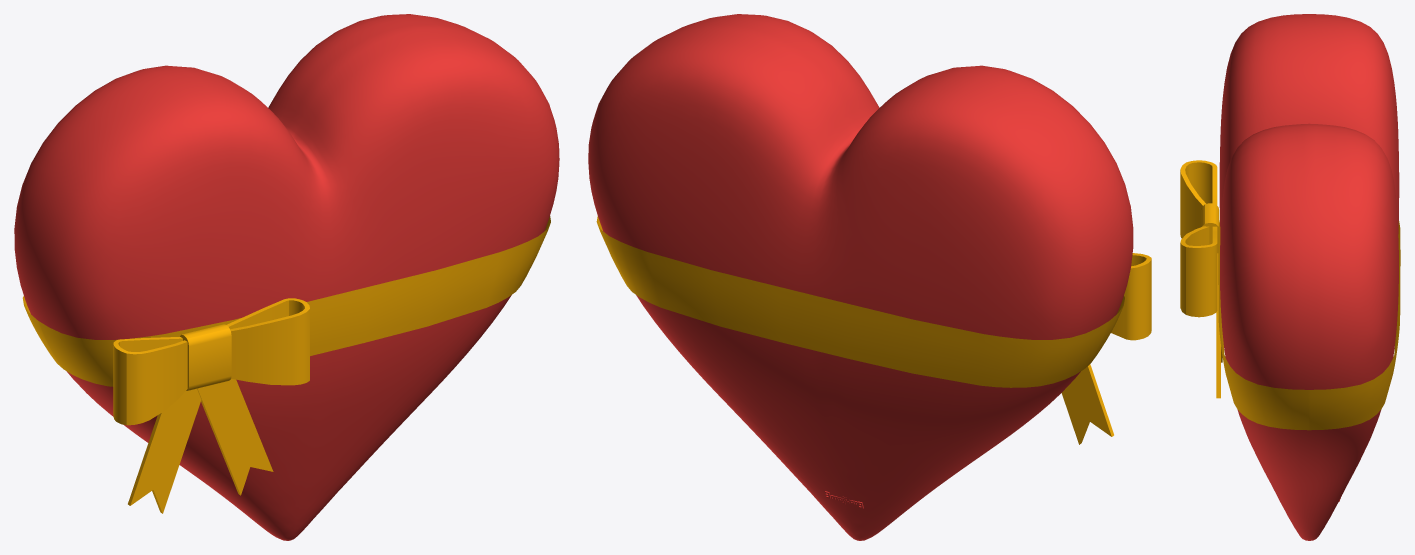
Rendered from heart_with_ribbon.gltf.
The picture shows the model from 3 angles, left to right: view 1: azimuth 30°, elevation 25°; view 2: azimuth 150°, elevation 25°; view 3: azimuth 270°, elevation 25°; orthographic projection. The views are drawn at different scales.
Visible parts, largest first — view 1: hfdjkslfjkds.003, Cube.010, Plane.007; view 2: hfdjkslfjkds.003, Plane.007, Cube.010; view 3: hfdjkslfjkds.003, Plane.007, Cube.010.
Part boxes in pixels (x1,y1,x2,y2): hfdjkslfjkds.003: (14, 14, 559, 540); Cube.010: (113, 298, 309, 513); Plane.007: (22, 216, 550, 386); hfdjkslfjkds.003: (588, 14, 1133, 540); Plane.007: (596, 216, 1124, 387); Cube.010: (1061, 253, 1151, 444); hfdjkslfjkds.003: (1219, 14, 1399, 540); Plane.007: (1218, 220, 1400, 430); Cube.010: (1180, 160, 1222, 398).
Bounding box in the file's own units: 1.86 × 1.68 × 0.7299.
Materials: 1 (1 with a texture image).
